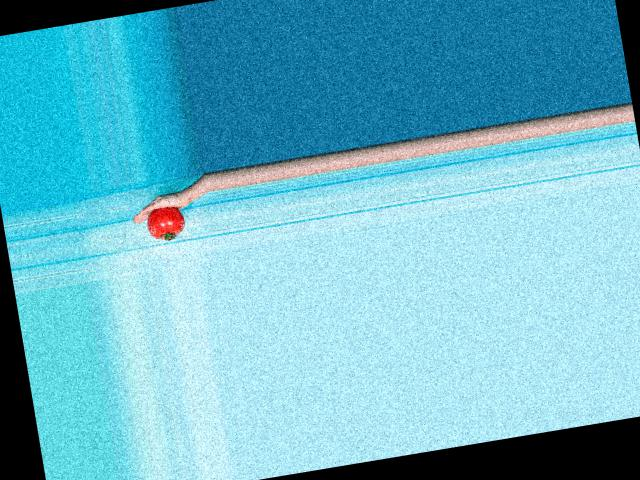tomato: (144, 204, 186, 242)
